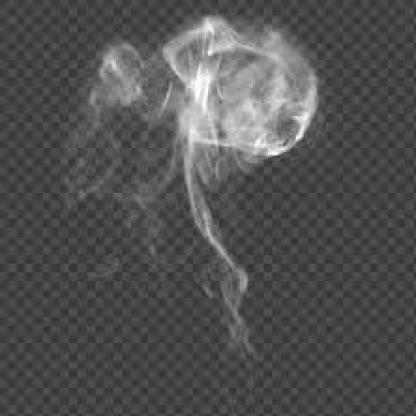smoke: (110, 13, 315, 347)
